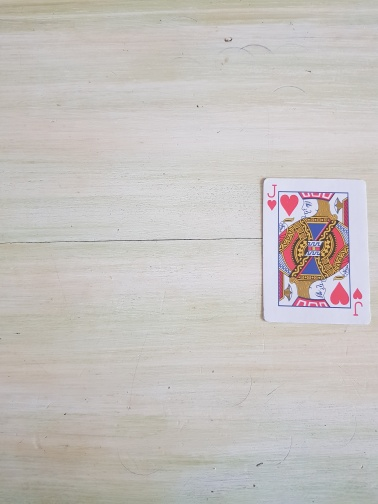jack: (260, 177, 370, 325)
